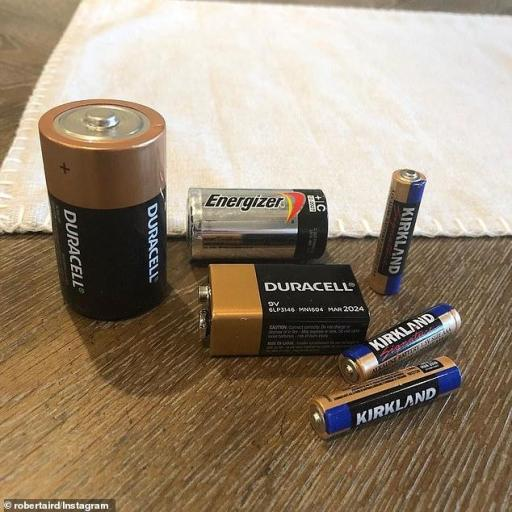battery: (37, 96, 168, 322), (194, 263, 372, 358), (308, 355, 464, 441), (187, 187, 329, 265), (337, 302, 465, 388), (368, 168, 428, 296)
